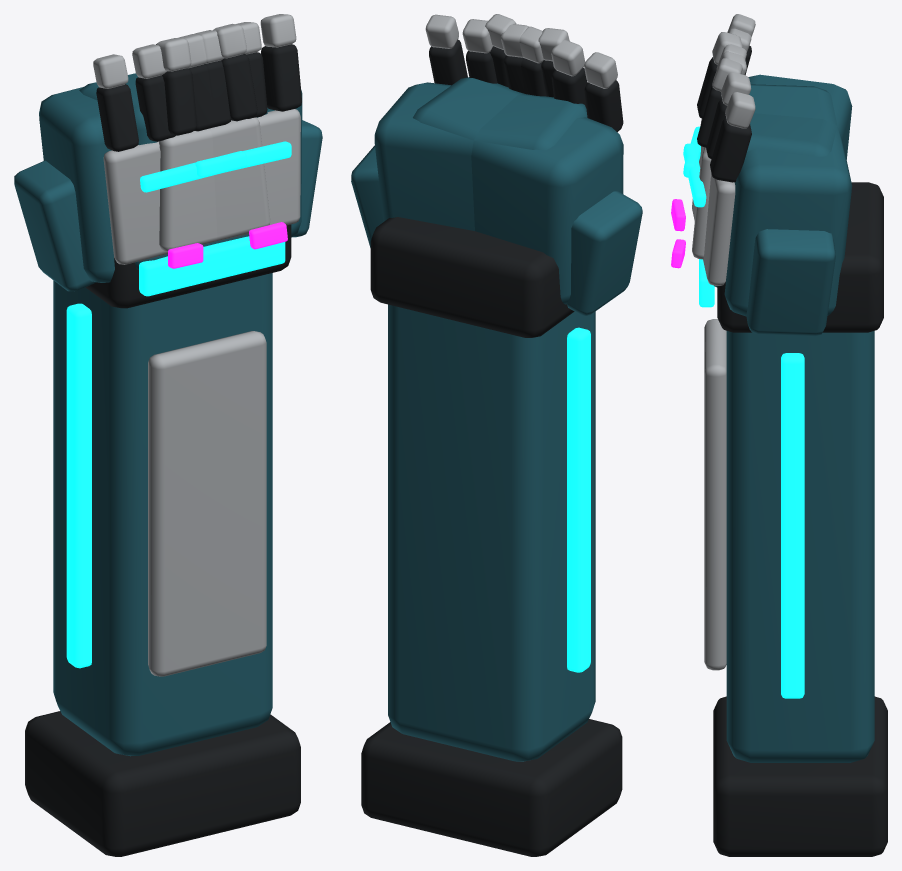
The model's file is CyberFirstPersonHands.fbx.
3 renders of one model, left to right at view 1: azimuth 30°, elevation 25°; view 2: azimuth 150°, elevation 25°; view 3: azimuth 270°, elevation 25°, orthographic. The views are drawn at different scales.
Parts seen in each view (by area): view 1: FPH_Left Connected Forearm Main Armor, FPH_Left Top Forearm Plate, FPH_Left Elbow Sleeve, FPH_Left Palm Back Metal Plate, FPH_Left Cyan Forearm Side Rail, FPH_Right Palm Back Metal Plate, FPH_Left Connected Palm Wedge, FPH_Left Thumb Clamp, FPH_Left Wrist Cyan Band, FPH_Left Wrist Connector Sleeve, FPH_Right Short Finger Base 4, FPH_Left Short Finger Base 1 (+17 smaller); view 2: FPH_Left Connected Forearm Main Armor, FPH_Left Elbow Sleeve, FPH_Left Connected Palm Wedge, FPH_Left Wrist Connector Sleeve, FPH_Right Connected Palm Wedge, FPH_Left Cyan Forearm Side Rail, FPH_Left Thumb Clamp, FPH_Right Thumb Clamp, FPH_Left Short Finger Base 1, FPH_Right Short Finger Base 4, FPH_Left Short Finger Base 2, FPH_Right Short Finger Tip 4 (+10 smaller); view 3: FPH_Left Connected Forearm Main Armor, FPH_Left Elbow Sleeve, FPH_Right Connected Palm Wedge, FPH_Right Thumb Clamp, FPH_Right Cyan Forearm Side Rail, FPH_Left Top Forearm Plate, FPH_Left Wrist Connector Sleeve, FPH_Left Connected Palm Wedge, FPH_Right Palm Back Metal Plate, FPH_Right Short Finger Base 4, FPH_Left Palm Back Metal Plate, FPH_Right Short Finger Tip 4 (+8 smaller).
Boxes of the visible parts, x1,y1,x2,y2 form: FPH_Left Connected Forearm Main Armor: (53,273,272,756); FPH_Left Top Forearm Plate: (148,331,266,676); FPH_Left Elbow Sleeve: (25,711,300,856); FPH_Left Palm Back Metal Plate: (103,117,270,264); FPH_Left Cyan Forearm Side Rail: (66,303,91,668); FPH_Right Palm Back Metal Plate: (159,109,300,251); FPH_Left Connected Palm Wedge: (39,87,267,282); FPH_Left Thumb Clamp: (14,160,96,291); FPH_Left Wrist Cyan Band: (139,236,285,296); FPH_Left Wrist Connector Sleeve: (85,224,291,308); FPH_Right Short Finger Base 4: (261,44,301,111); FPH_Left Short Finger Base 1: (96,84,138,151); FPH_Left Connected Forearm Main Armor: (388,304,595,761); FPH_Left Elbow Sleeve: (361,719,622,856); FPH_Left Connected Palm Wedge: (413,77,623,304); FPH_Left Wrist Connector Sleeve: (370,217,574,337); FPH_Right Connected Palm Wedge: (374,82,587,230); FPH_Left Cyan Forearm Side Rail: (567,327,590,672); FPH_Left Thumb Clamp: (567,191,642,315); FPH_Right Thumb Clamp: (351,145,383,247); FPH_Left Short Finger Base 1: (584,80,623,132); FPH_Right Short Finger Base 4: (429,39,467,85); FPH_Left Short Finger Base 2: (551,67,587,107); FPH_Right Short Finger Tip 4: (425,14,458,48); FPH_Left Connected Forearm Main Armor: (726,331,874,762); FPH_Left Elbow Sleeve: (713,696,887,856); FPH_Right Connected Palm Wedge: (724,84,852,316); FPH_Right Thumb Clamp: (746,229,835,336); FPH_Right Cyan Forearm Side Rail: (781,353,804,698); FPH_Left Top Forearm Plate: (704,319,726,670); FPH_Left Wrist Connector Sleeve: (717,182,883,332); FPH_Left Connected Palm Wedge: (714,74,852,287); FPH_Right Palm Back Metal Plate: (692,119,735,285); FPH_Right Short Finger Base 4: (710,117,751,182); FPH_Left Palm Back Metal Plate: (692,147,711,259); FPH_Right Short Finger Tip 4: (725,92,755,128).
Bounding box in the file's own units: 23.5 × 64.14 × 16.41.
